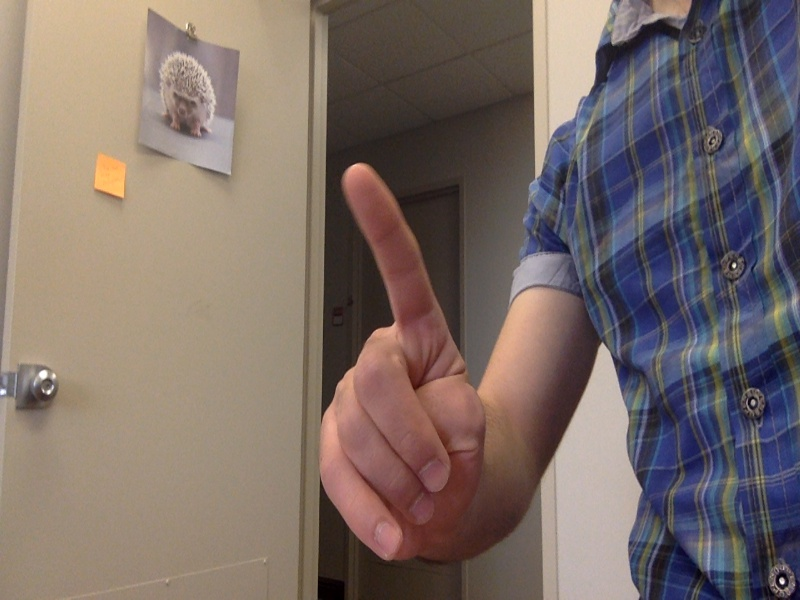1-hand: (309, 158, 489, 564)
